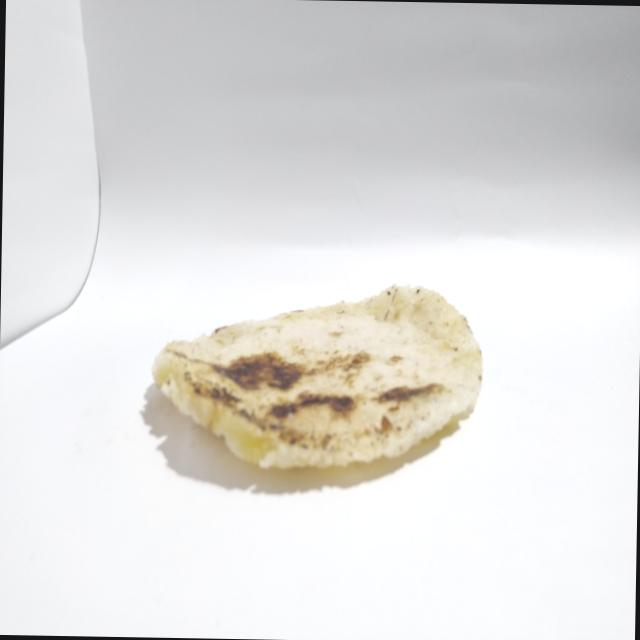Mbeju: (140, 270, 488, 496)
